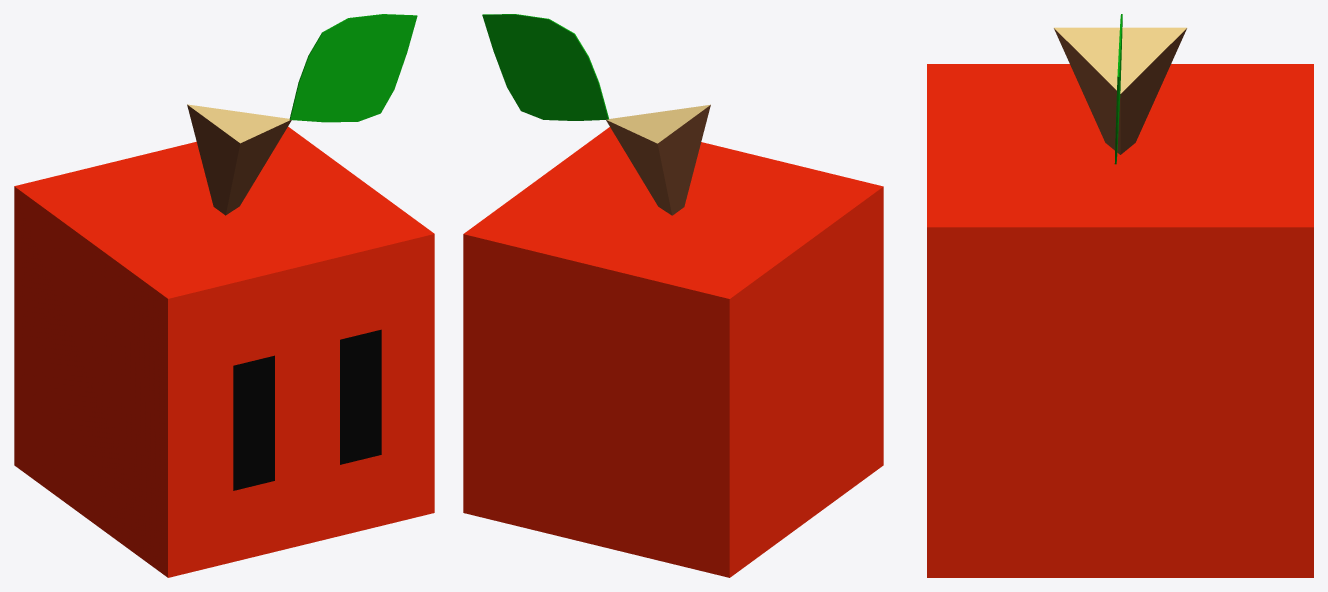
Rendered from haco-ringo.glb.
3 views of the same model, side by side, from view 1: azimuth 30°, elevation 25°; view 2: azimuth 150°, elevation 25°; view 3: azimuth 270°, elevation 25° (orthographic). The views are drawn at different scales.
Parts seen in each view (by area): view 1: pCube1, pPlane3, pCone1, pPlane2, pPlane1; view 2: pCube1, pPlane3, pCone1; view 3: pCube1, pCone1, pPlane3.
Part boxes in pixels (left/top/right/bottom): pCube1: left=14, top=126, right=434, bottom=577; pPlane3: left=289, top=14, right=417, bottom=122; pCone1: left=187, top=104, right=291, bottom=215; pPlane2: left=340, top=329, right=381, bottom=464; pPlane1: left=233, top=355, right=274, bottom=490; pCube1: left=463, top=127, right=883, bottom=577; pPlane3: left=482, top=14, right=608, bottom=120; pCone1: left=606, top=104, right=710, bottom=215; pCube1: left=927, top=64, right=1313, bottom=577; pCone1: left=1054, top=27, right=1186, bottom=154; pPlane3: left=1114, top=14, right=1122, bottom=164.
Bounding box in the file's own units: 0.061 × 0.0789 × 0.0519.
1 material, 1 textured.
